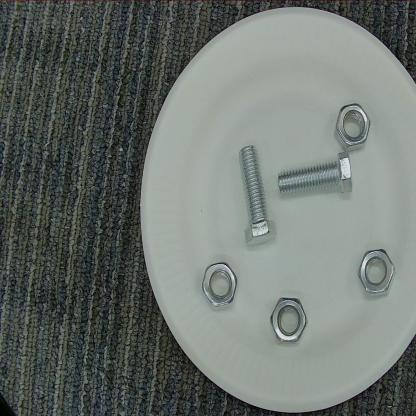FOD: (233, 141, 280, 252), (266, 150, 361, 204), (351, 237, 402, 303), (266, 293, 310, 349), (331, 96, 373, 153), (200, 256, 241, 314)
